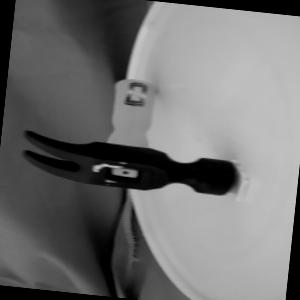martelo: (17, 66, 246, 200)
